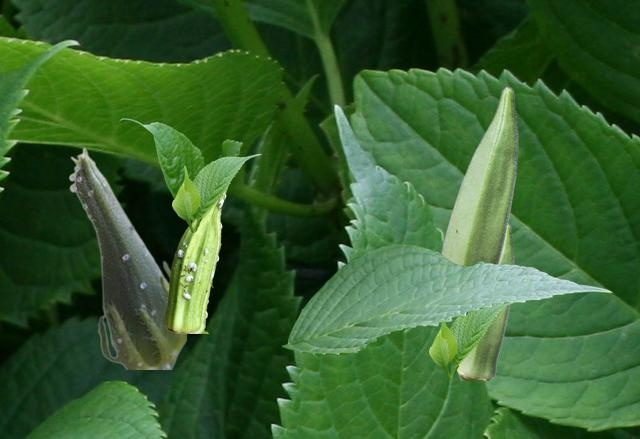okra: (68, 147, 185, 368), (441, 86, 517, 264), (164, 187, 228, 332), (457, 223, 513, 379)
